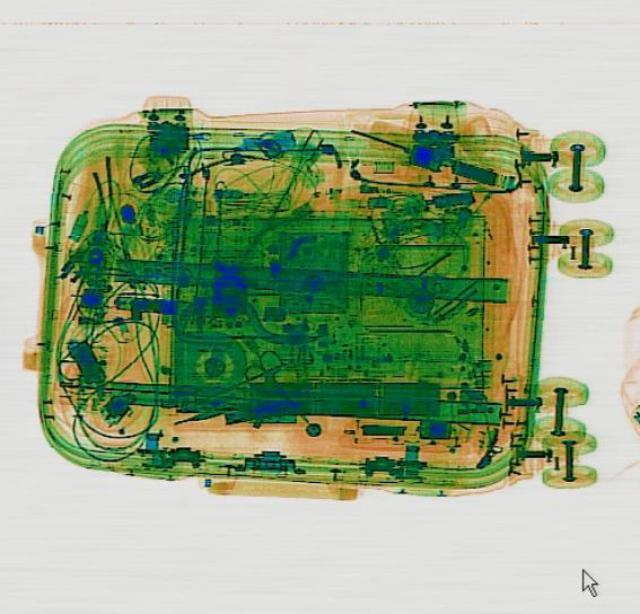Scissors: (234, 344, 328, 432)
